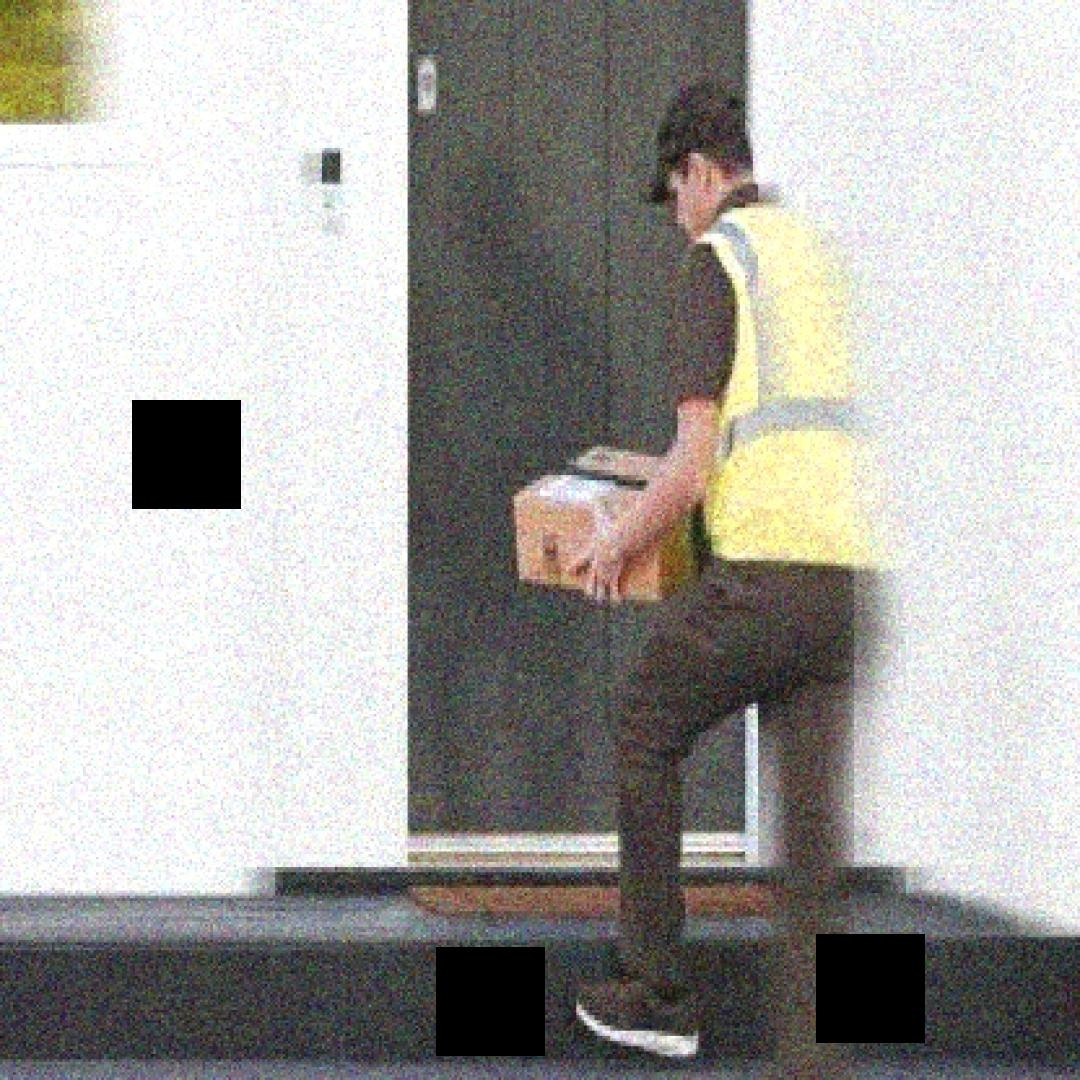package: (503, 431, 732, 618)
